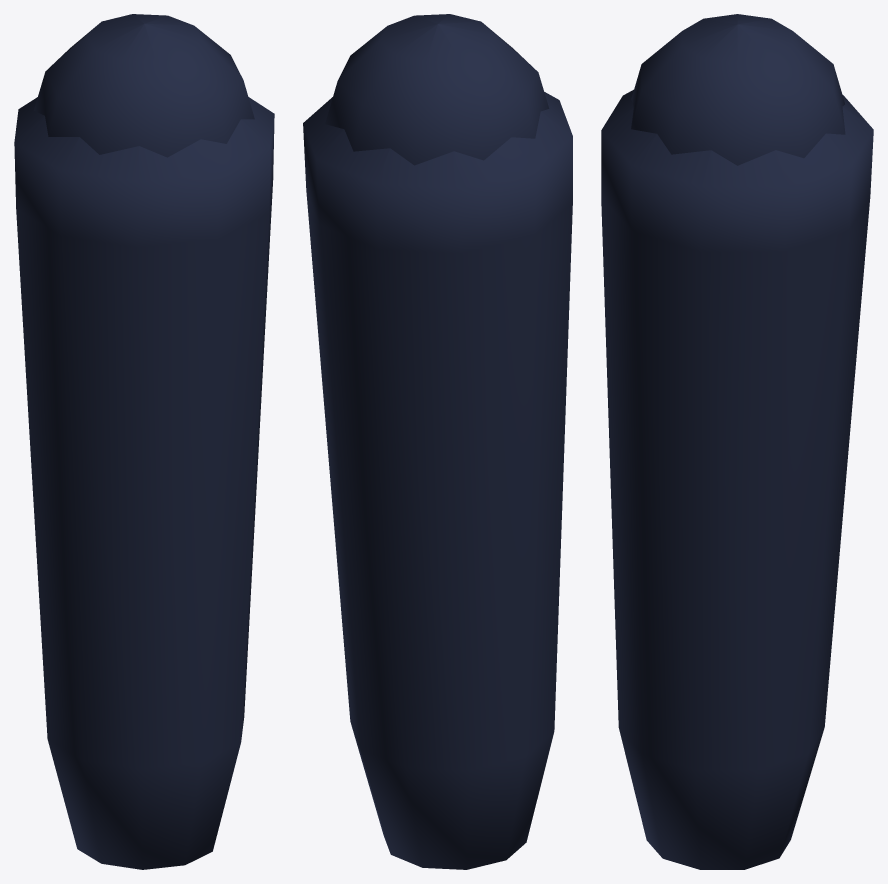
File: thigh_R.obj
3 renders of one model, left to right at view 1: azimuth 30°, elevation 25°; view 2: azimuth 150°, elevation 25°; view 3: azimuth 270°, elevation 25°, orthographic.
Parts seen in each view (by area): view 1: thigh_R; view 2: thigh_R; view 3: thigh_R.
Boxes of the visible parts, x1,y1,x2,y2 form: thigh_R: (14, 14, 274, 869); thigh_R: (303, 14, 572, 869); thigh_R: (601, 14, 873, 869).
Bounding box in the file's own units: 0.1446 × 0.5066 × 0.1493.
